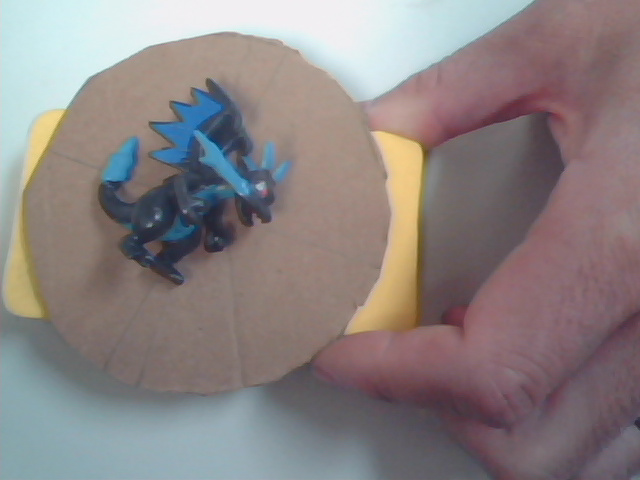charizard: (93, 78, 331, 306)
